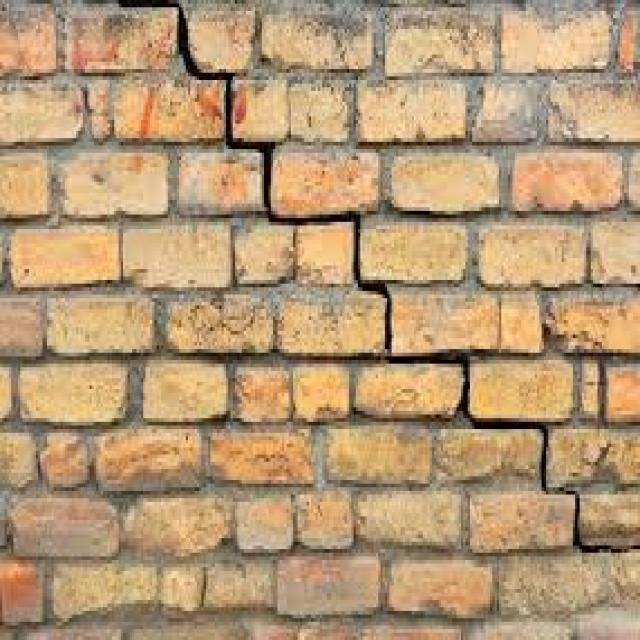Crack: (112, 0, 638, 553)
